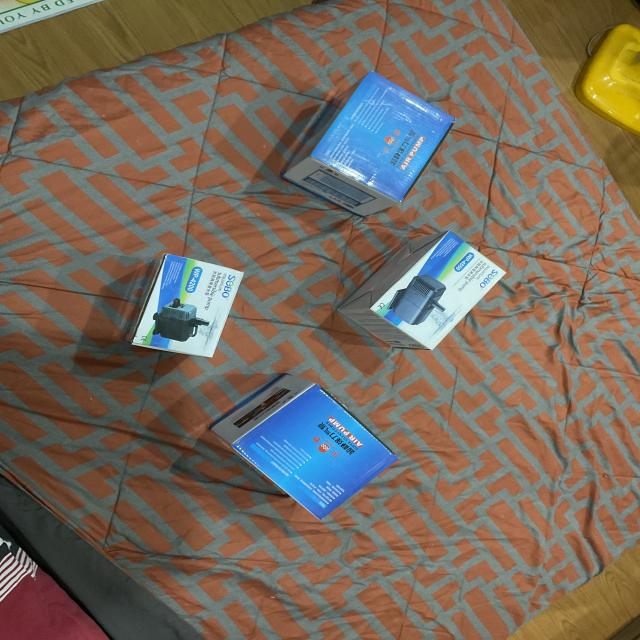SOBO_WP_4200: (336, 217, 512, 359), (108, 237, 251, 368)
YAMANO_LPP_20: (199, 370, 415, 530), (275, 69, 463, 218)
